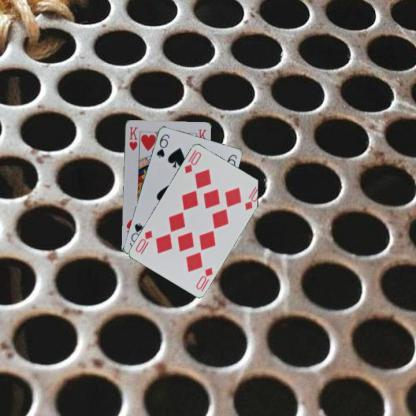10d: (192, 264, 214, 290), (182, 149, 203, 175)
6s: (154, 131, 170, 159)
Kh: (126, 124, 138, 152)
